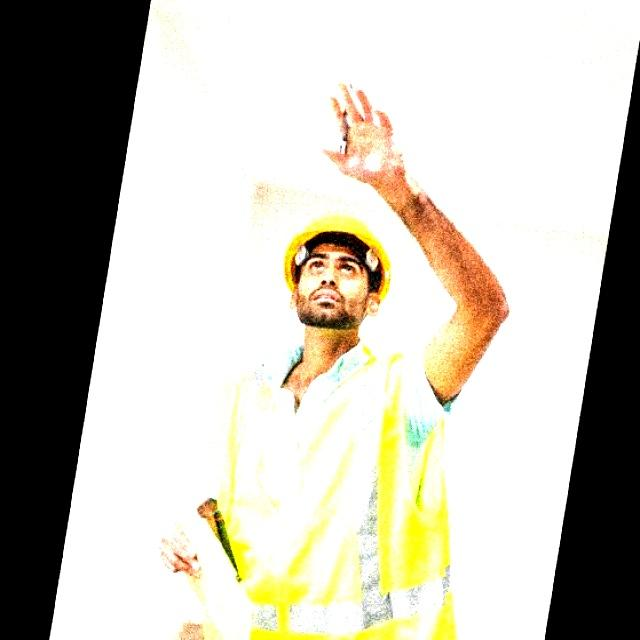Capacete: (284, 214, 390, 299)
